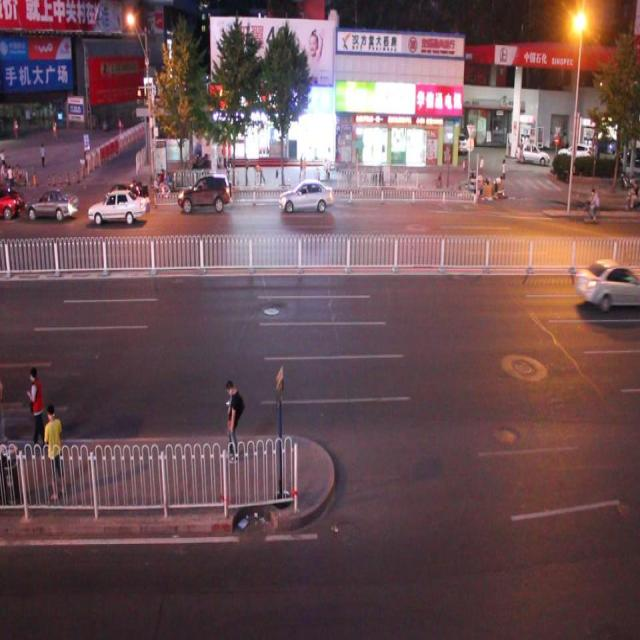car: (573, 255, 640, 312), (88, 188, 148, 226), (280, 173, 334, 215), (176, 171, 231, 212), (26, 185, 80, 222), (101, 180, 145, 223)
